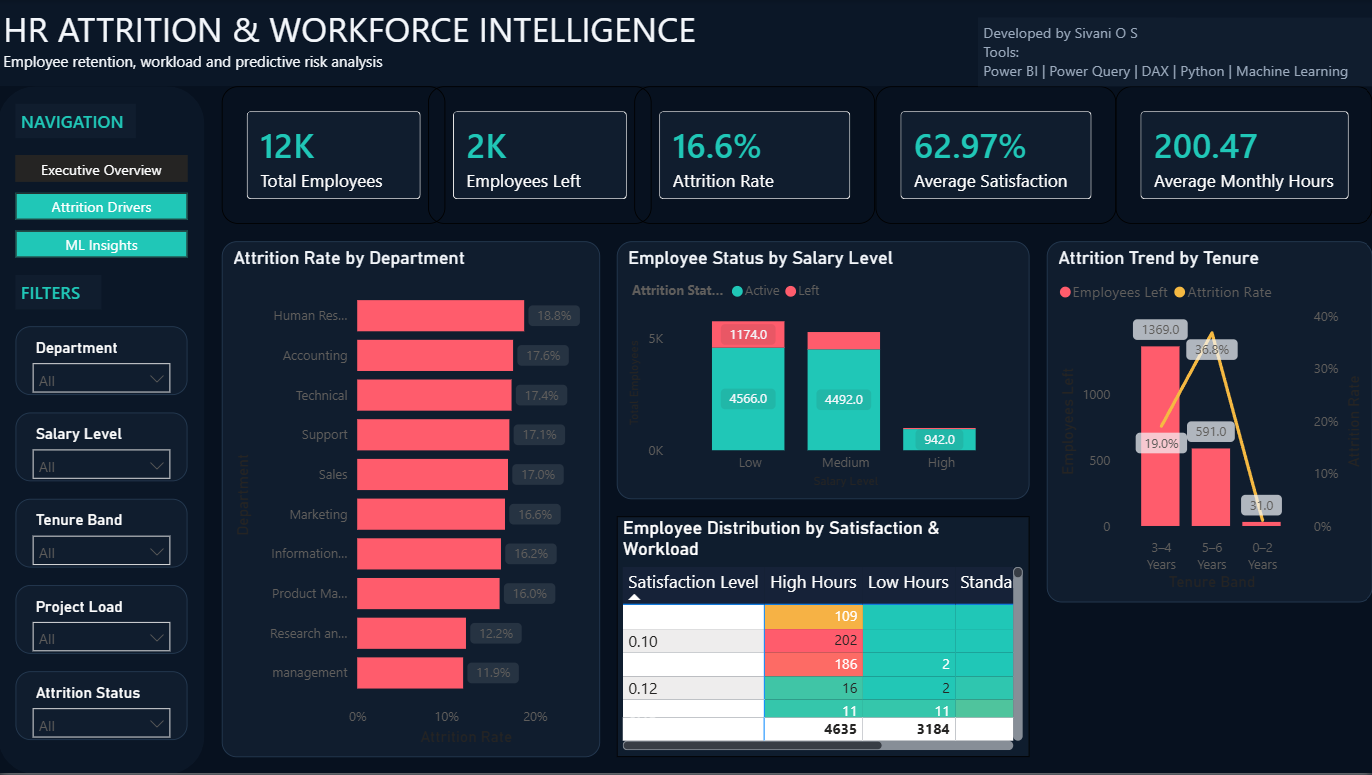

What the dashboard file says about the page in this screenshot:
{"tool":"powerbi","page":{"name":"Executive Overview","canvas":[1280,720],"ordinal":0},"visuals":[{"type":"shape","box":[0,0,1280,80],"z":0},{"type":"textbox","box":[0,0,944,80],"z":1000},{"type":"clusteredBarChart","title":"Attrition Rate by Department ","fields":{"Category":["HR Employees.Department"],"Y":["Measures (2).Attrition Rate"]},"box":[208,224,352,480],"z":2000},{"type":"columnChart","title":"Employee Status by Salary Level","fields":{"Category":["HR Employees.Salary Level"],"Series":["HR Employees. Attrition Status"],"Y":["Measures (2).Total Employees"]},"box":[576,224,384,240],"z":3000},{"type":"lineClusteredColumnComboChart","title":"Attrition Trend by Tenure","fields":{"Category":["HR Employees.Tenure Band"],"Y":["Measures (2).Employees Left"],"Y2":["Measures (2).Attrition Rate"]},"box":[976,224,304,336],"z":4000},{"type":"pivotTable","title":"Employee Distribution by Satisfaction & Workload","fields":{"Rows":["HR Employees.Satisfaction Level"],"Columns":["HR Employees.Workload Band"],"Values":["CountNonNull(HR Employees.Employee ID)"]},"box":[576,480,384,224],"z":5000},{"type":"shape","box":[0,80,192,640],"z":6000},{"type":"slicer","fields":{"Values":["HR Employees.Project Load"]},"box":[16,544,160,64],"z":7000},{"type":"slicer","fields":{"Values":["HR Employees. Attrition Status"]},"box":[16,624,160,64],"z":8000},{"type":"slicer","fields":{"Values":["HR Employees.Salary Level"]},"box":[16,384,160,64],"z":9000},{"type":"slicer","fields":{"Values":["HR Employees.Tenure Band"]},"box":[16,464,160,64],"z":10000},{"type":"slicer","fields":{"Values":["HR Employees.Department"]},"box":[16,304,160,64],"z":11000},{"type":"textbox","box":[16,256,80,32],"z":12000},{"type":"textbox","box":[16,96,112,32],"z":13000},{"type":"pageNavigator","box":[16,144,160,96],"z":14000},{"type":"cardVisual","fields":{"Data":["Measures (2).Total Employees"]},"box":[208,80,208,128],"z":15000},{"type":"cardVisual","fields":{"Data":["Measures (2).Employees Left"]},"box":[400,80,208,128],"z":16000},{"type":"cardVisual","fields":{"Data":["Measures (2).Average Satisfaction"]},"box":[816,80,224,128],"z":17000},{"type":"cardVisual","fields":{"Data":["Measures (2).Attrition Rate"]},"box":[592,80,224,128],"z":18000},{"type":"cardVisual","fields":{"Data":["Measures (2).Average Monthly Hours"]},"box":[1040,80,240,128],"z":19000},{"type":"textbox","box":[912,16,368,64],"z":20000}]}

Visuals, with their boxes in screenshot pixels (x1, y1, x2, y2), scaled from the page's 1280x720 canvas onto the 1372x775 screenshot:
shape: box=[0, 0, 1371, 86]
textbox: box=[0, 0, 1012, 86]
"Attrition Rate by Department " clusteredBarChart: box=[223, 241, 600, 758]
"Employee Status by Salary Level" columnChart: box=[617, 241, 1029, 499]
"Attrition Trend by Tenure" lineClusteredColumnComboChart: box=[1046, 241, 1371, 603]
"Employee Distribution by Satisfaction & Workload" pivotTable: box=[617, 517, 1029, 758]
shape: box=[0, 86, 206, 774]
slicer - HR Employees.Project Load: box=[17, 586, 189, 654]
slicer - HR Employees. Attrition Status: box=[17, 672, 189, 741]
slicer - HR Employees.Salary Level: box=[17, 413, 189, 482]
slicer - HR Employees.Tenure Band: box=[17, 499, 189, 568]
slicer - HR Employees.Department: box=[17, 327, 189, 396]
textbox: box=[17, 276, 103, 310]
textbox: box=[17, 103, 137, 138]
pageNavigator: box=[17, 155, 189, 258]
cardVisual - Measures (2).Total Employees: box=[223, 86, 446, 224]
cardVisual - Measures (2).Employees Left: box=[429, 86, 652, 224]
cardVisual - Measures (2).Average Satisfaction: box=[875, 86, 1115, 224]
cardVisual - Measures (2).Attrition Rate: box=[635, 86, 875, 224]
cardVisual - Measures (2).Average Monthly Hours: box=[1115, 86, 1371, 224]
textbox: box=[978, 17, 1371, 86]
